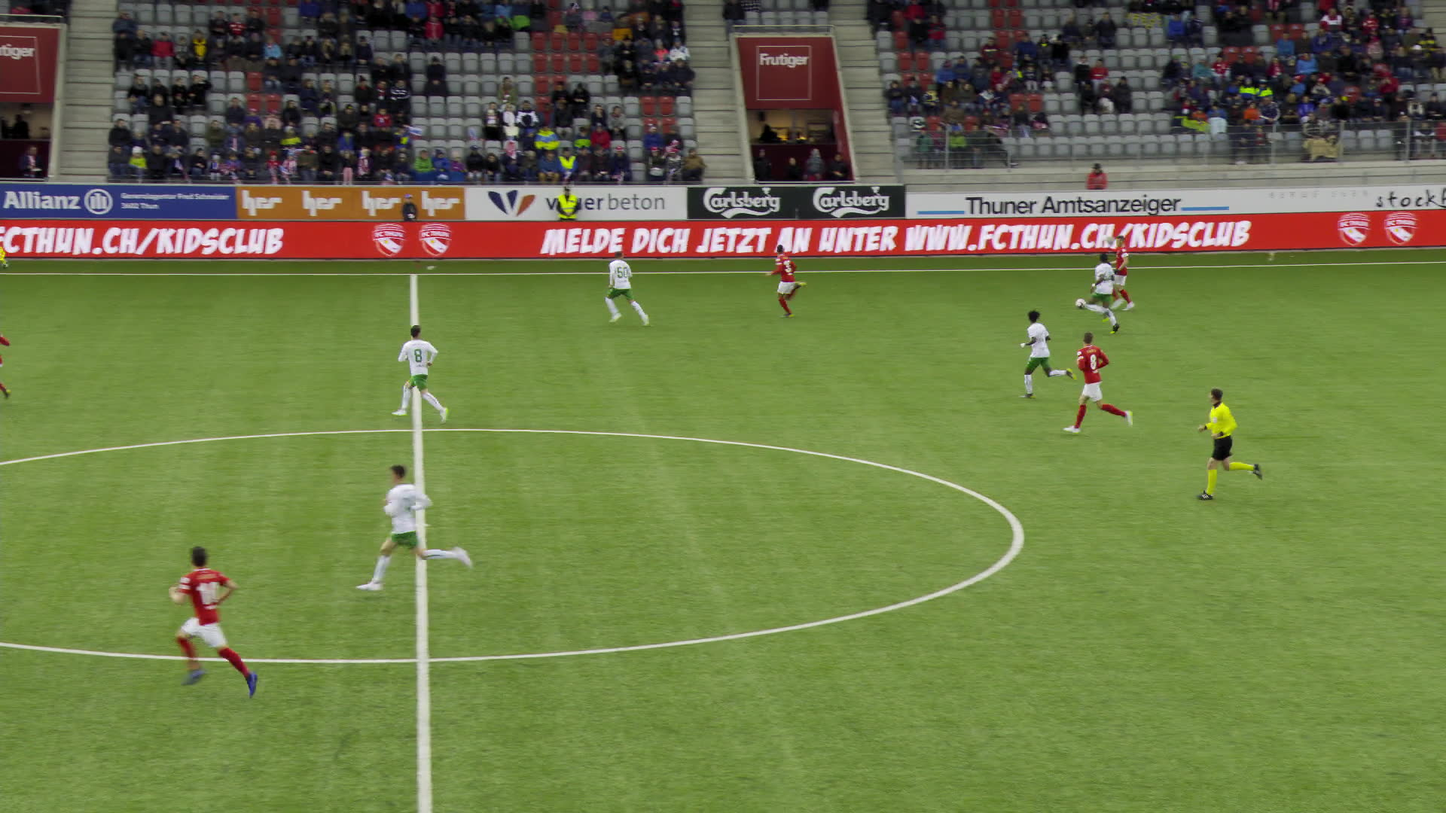ball: (1074, 297, 1088, 310)
player: (167, 550, 254, 698), (380, 464, 459, 598), (1073, 333, 1127, 438), (1016, 308, 1071, 400), (397, 325, 441, 423), (764, 242, 819, 319), (1080, 253, 1128, 333), (606, 252, 641, 327), (1109, 234, 1137, 309), (0, 325, 13, 395)
referee: (1197, 387, 1257, 499)
